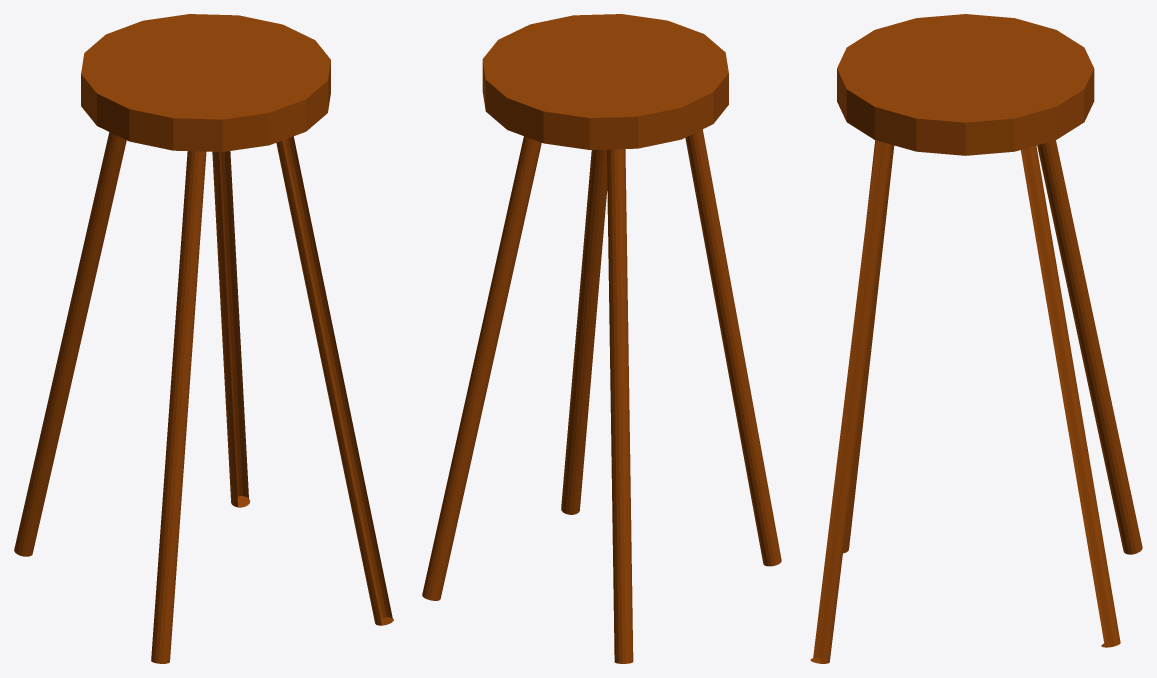
Rendered from stool0.glb.
3 views of the same model, side by side, from view 1: azimuth 30°, elevation 25°; view 2: azimuth 150°, elevation 25°; view 3: azimuth 270°, elevation 25° (orthographic). The views are drawn at different scales.
Visible parts, largest first — view 1: Cylinder.005; view 2: Cylinder.005; view 3: Cylinder.005.
Boxes of the visible parts, left/top/right/bottom form: Cylinder.005: left=14, top=14, right=393, bottom=663; Cylinder.005: left=422, top=14, right=781, bottom=663; Cylinder.005: left=810, top=14, right=1142, bottom=663.
Size of the model in its own units: 1.09 by 2.39 by 1.33.
